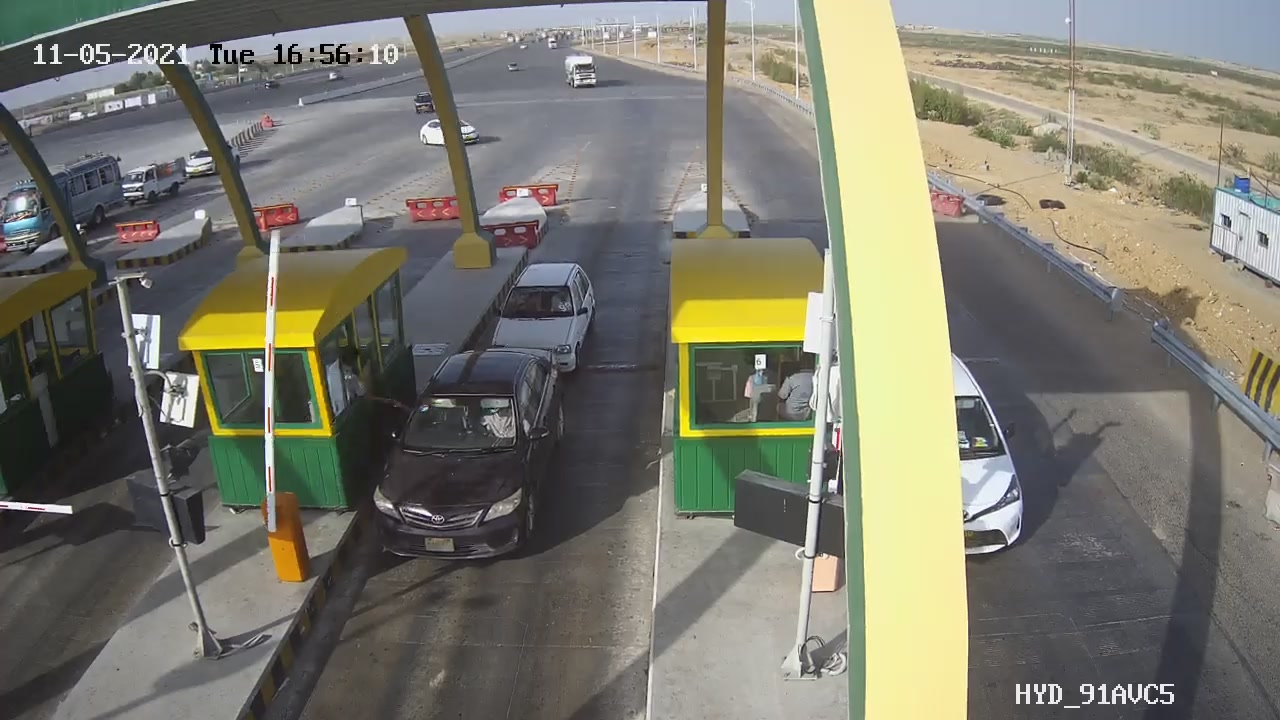F1: (355, 333, 601, 585), (474, 246, 610, 398)
